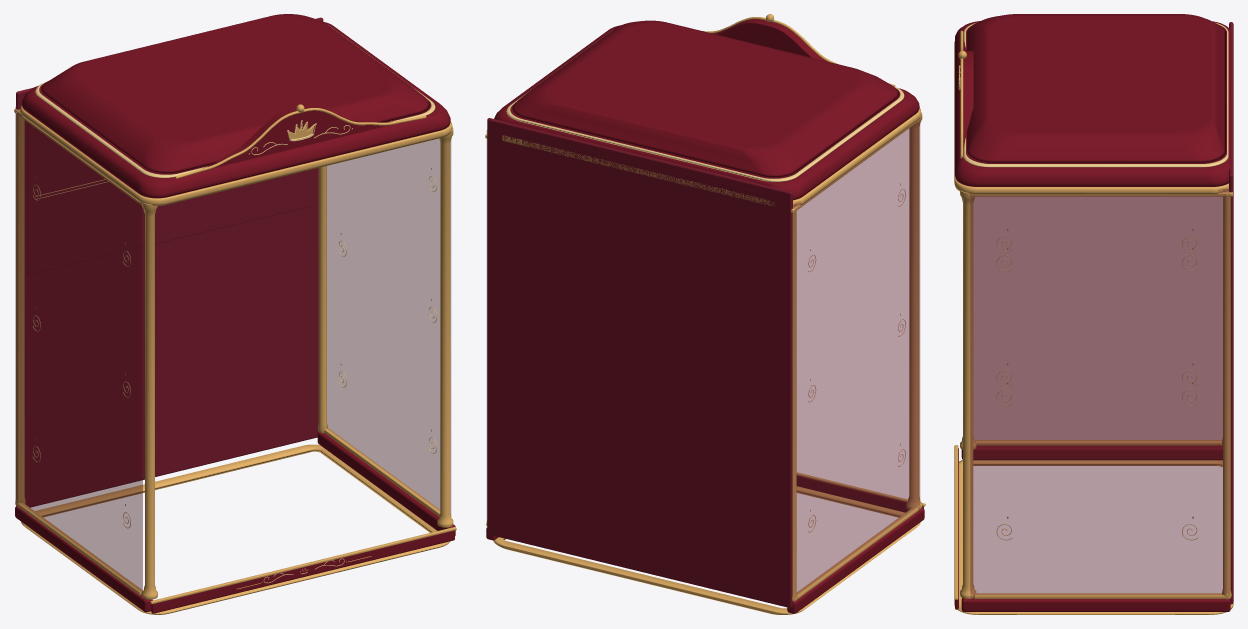
File: royal-cabinet-codex.glb
3 renders of one model, left to right at view 1: azimuth 30°, elevation 25°; view 2: azimuth 150°, elevation 25°; view 3: azimuth 270°, elevation 25°, orthographic. The views are drawn at different scales.
Visible parts, largest first — view 1: Back | satin panel, Side glass -1, Side glass 1, Canopy | curved crown cover, Back | inset upper panel, Canopy | moulded enamel, Base | lower rolled moulding, Front column | flared brass 1, Front column | flared brass -1, Canopy | rolled lower brass edge, Back pilaster -1, Pediment | curved enamel fascia (+9 smaller); view 2: Back | satin panel, Side glass -1, Canopy | curved crown cover, Canopy | moulded enamel, Front column | flared brass -1, Base | lower rolled moulding, Canopy | rolled lower brass edge, Back pilaster -1, Pediment | curved enamel fascia, Plinth side -1, Canopy | upper pinstripe, Plinth front scarf (+1 smaller); view 3: Side glass 1, Side glass -1, Canopy | curved crown cover, Canopy | moulded enamel, Front column | flared brass 1, Plinth side -1, Plinth side 1, Back pilaster 1, Base | lower rolled moulding, Canopy | rolled lower brass edge, Back | satin panel, Side lower channel 1 (+6 smaller).
Boxes of the visible parts, bbox=[...] form: Back | satin panel: bbox=[16, 17, 323, 507]; Side glass -1: bbox=[15, 106, 142, 595]; Side glass 1: bbox=[327, 139, 450, 513]; Canopy | curved crown cover: bbox=[39, 14, 431, 174]; Back | inset upper panel: bbox=[27, 122, 314, 274]; Canopy | moulded enamel: bbox=[22, 21, 450, 198]; Base | lower rolled moulding: bbox=[21, 444, 449, 614]; Front column | flared brass 1: bbox=[437, 128, 453, 527]; Front column | flared brass -1: bbox=[142, 202, 157, 599]; Canopy | rolled lower brass edge: bbox=[20, 105, 452, 205]; Back pilaster -1: bbox=[15, 111, 25, 506]; Pediment | curved enamel fascia: bbox=[203, 105, 392, 168]; Back | satin panel: bbox=[487, 118, 792, 608]; Side glass -1: bbox=[793, 119, 919, 597]; Canopy | curved crown cover: bbox=[510, 20, 900, 178]; Canopy | moulded enamel: bbox=[494, 25, 919, 200]; Front column | flared brass -1: bbox=[906, 113, 922, 509]; Base | lower rolled moulding: bbox=[493, 486, 920, 614]; Canopy | rolled lower brass edge: bbox=[502, 108, 921, 206]; Back pilaster -1: bbox=[792, 208, 797, 601]; Pediment | curved enamel fascia: bbox=[712, 19, 826, 61]; Plinth side -1: bbox=[787, 507, 924, 613]; Canopy | upper pinstripe: bbox=[506, 30, 904, 181]; Plinth front scarf: bbox=[796, 475, 923, 512]; Side glass 1: bbox=[970, 189, 1229, 597]; Side glass -1: bbox=[973, 197, 1222, 439]; Canopy | curved crown cover: bbox=[966, 14, 1226, 163]; Canopy | moulded enamel: bbox=[955, 21, 1231, 186]; Front column | flared brass 1: bbox=[960, 190, 976, 598]; Plinth side -1: bbox=[961, 445, 1222, 460]; Plinth side 1: bbox=[961, 598, 1230, 611]; Back pilaster 1: bbox=[1222, 194, 1231, 599]; Base | lower rolled moulding: bbox=[954, 460, 1233, 614]; Canopy | rolled lower brass edge: bbox=[954, 41, 1228, 194]; Back | satin panel: bbox=[1229, 22, 1233, 604]; Side lower channel 1: bbox=[974, 593, 1230, 598].
Bounding box in the file's own units: 40 × 57.99 × 30.1.
